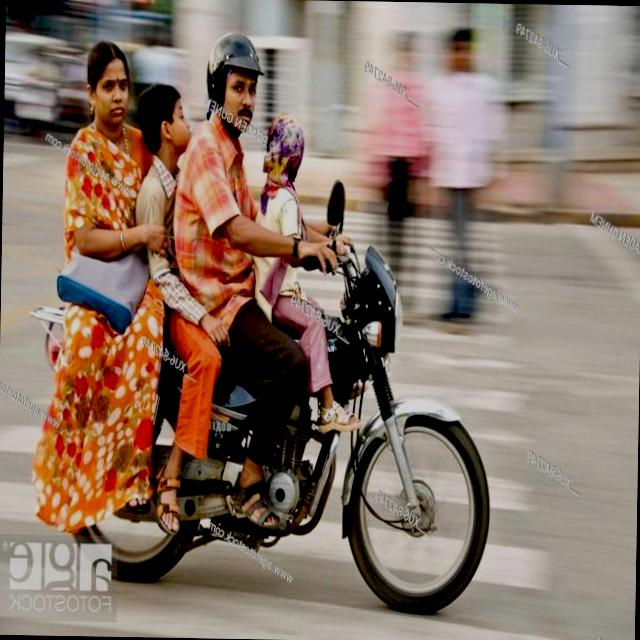motorcycle: (24, 244, 502, 622)
person: (58, 34, 156, 389), (189, 26, 280, 364), (252, 106, 336, 421), (126, 75, 202, 366)
rider_region: (46, 28, 501, 598)
